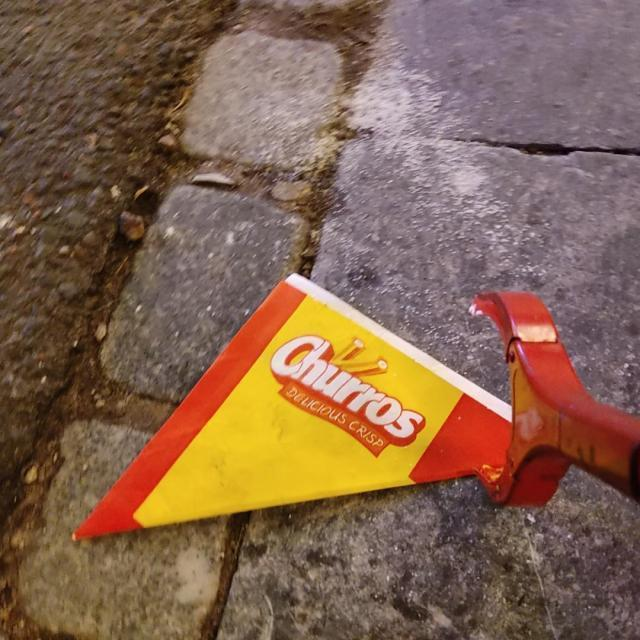Paper: (68, 266, 520, 544)
